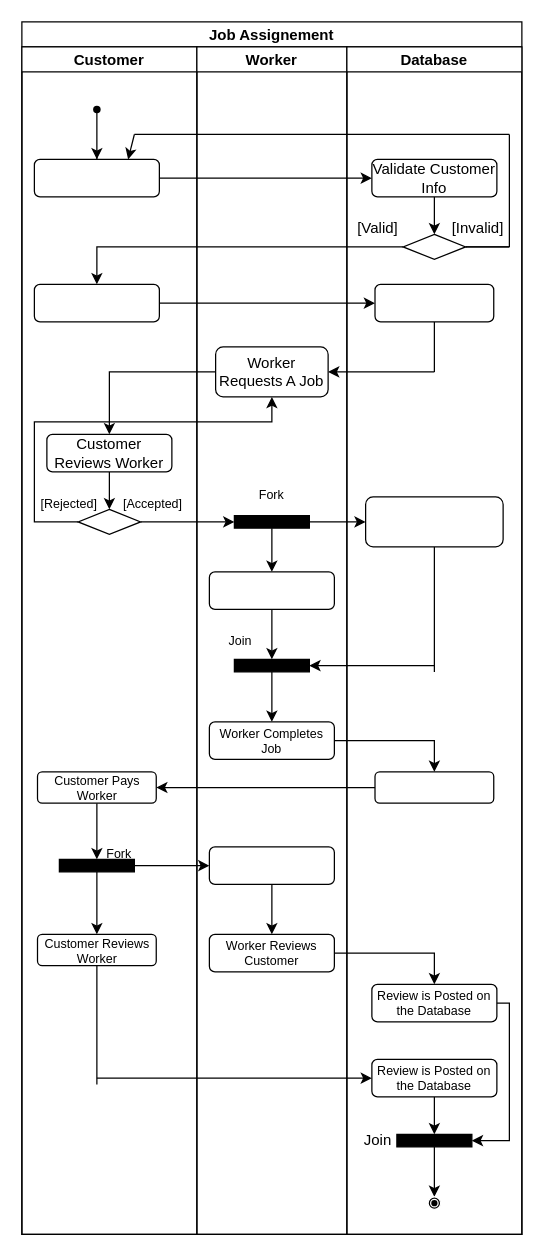
The diagram is 544 pixels wide and 1256 high, and some of its shapes have lost their labels. Here are the shapes that lost their labels. From the top down, the centre of each, then its label:
[96,177]: Customer Creates Account/Login
[96,302]: Customer Creates a Job
[434,302]: Job is Posted on the Database
[433,521]: Job is Removed from Available Jobs
[271,590]: Worker is Assigned to Job
[434,787]: Job is Marked as Complete
[271,865]: Worker Gets Paid
